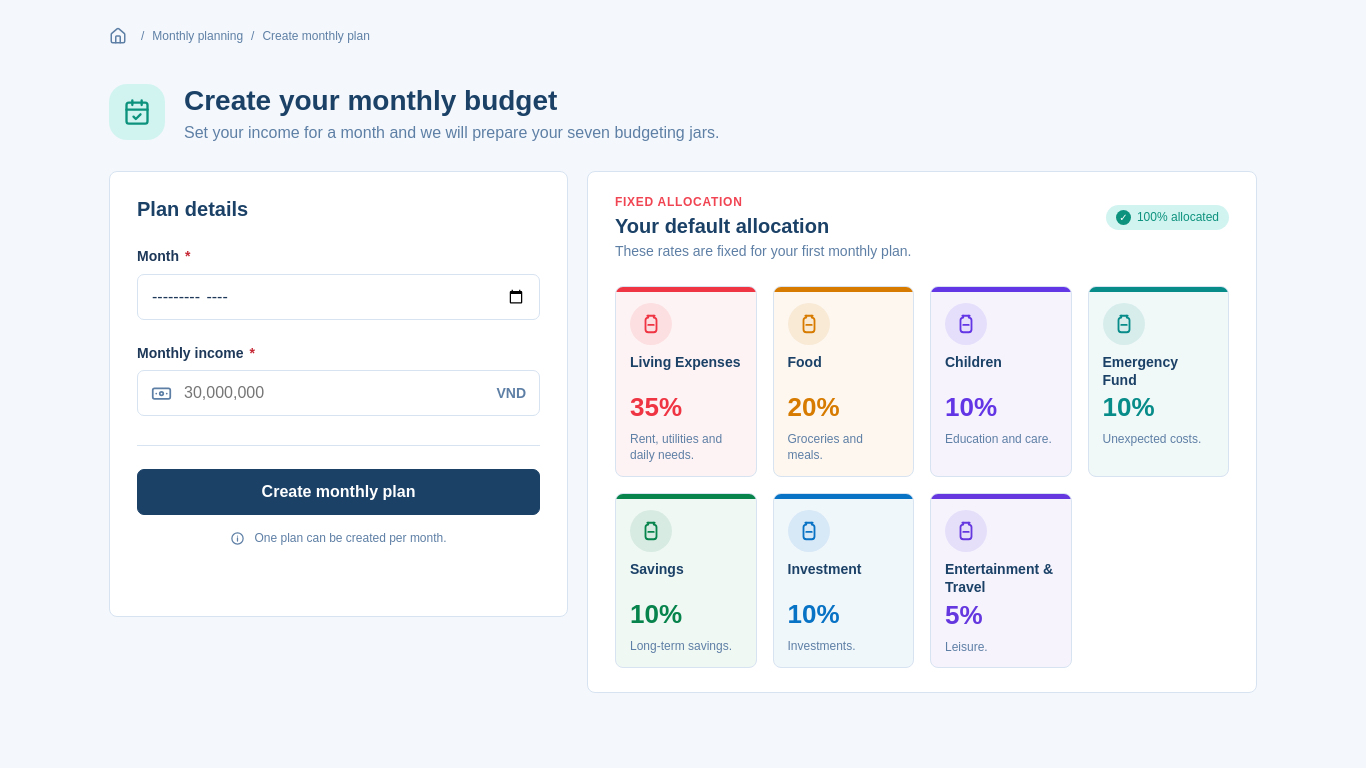
Test: MonthlyPlanningPageComponent › client validation (TC_F1_003, TC_F1_004, TC_F1_011, AC3) › rejects income 0 for a valid month, keeps the typed value and focuses Income
The image size is (1366, 768).
In the field labelled "Month *": [338, 297] box [151, 276, 526, 318], type "2026-09"
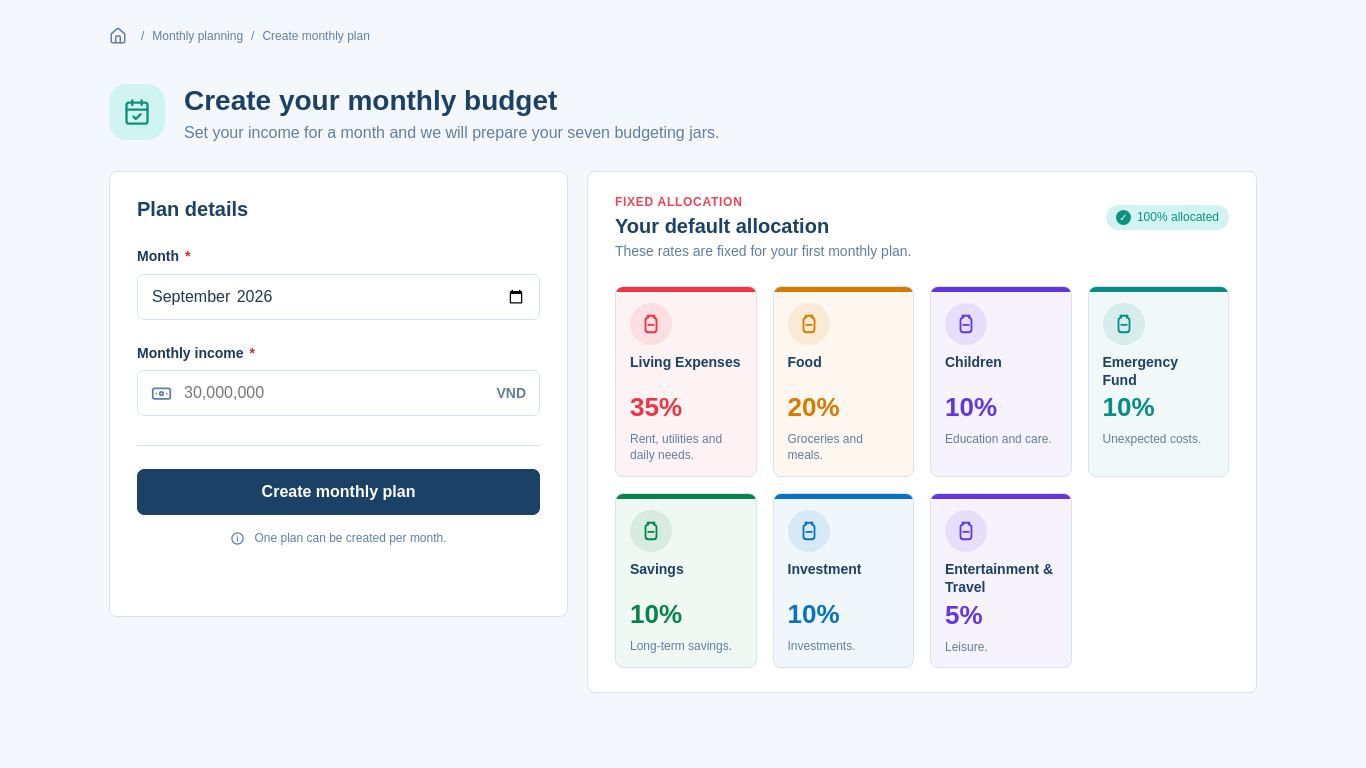
In the field with id "monthly-income": [334, 393] box [184, 372, 484, 414], type "0"
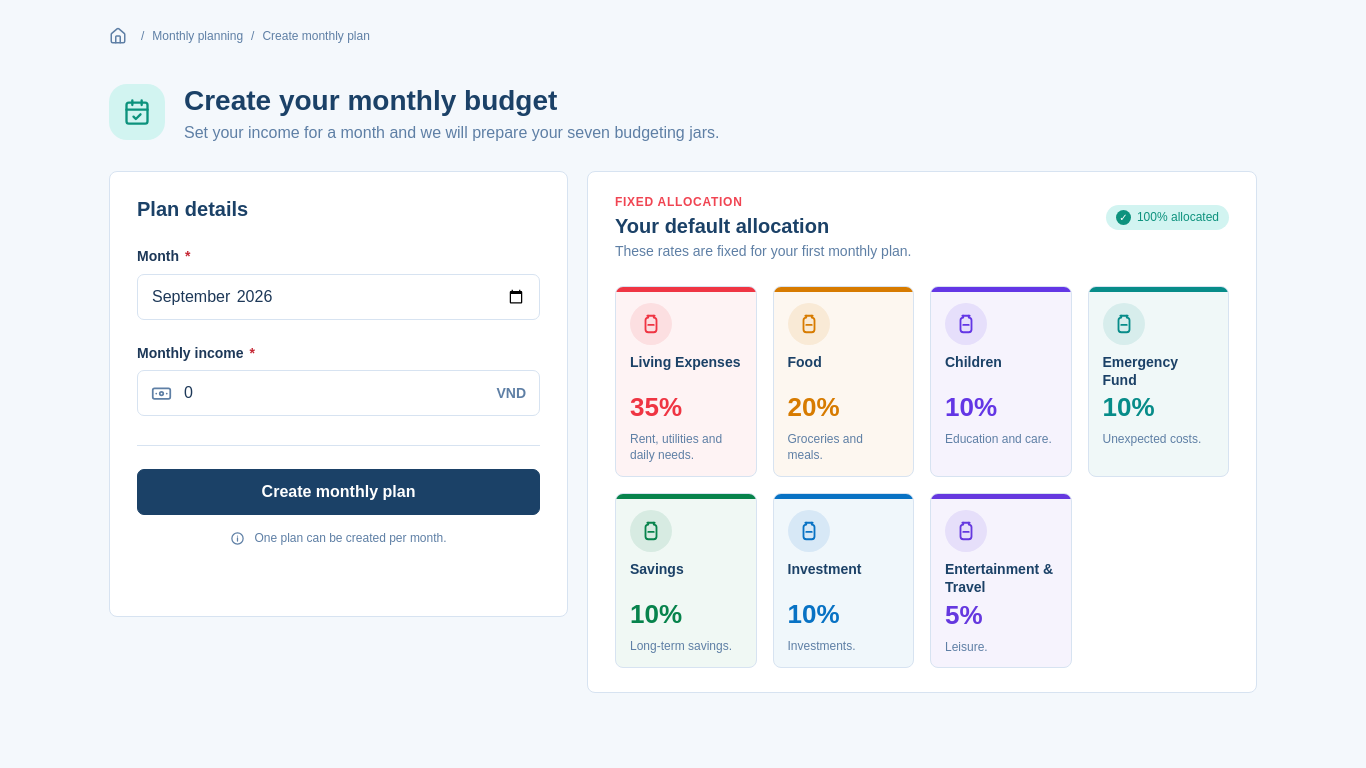
Click the button "Create monthly plan": [338, 492] box [137, 469, 540, 515]
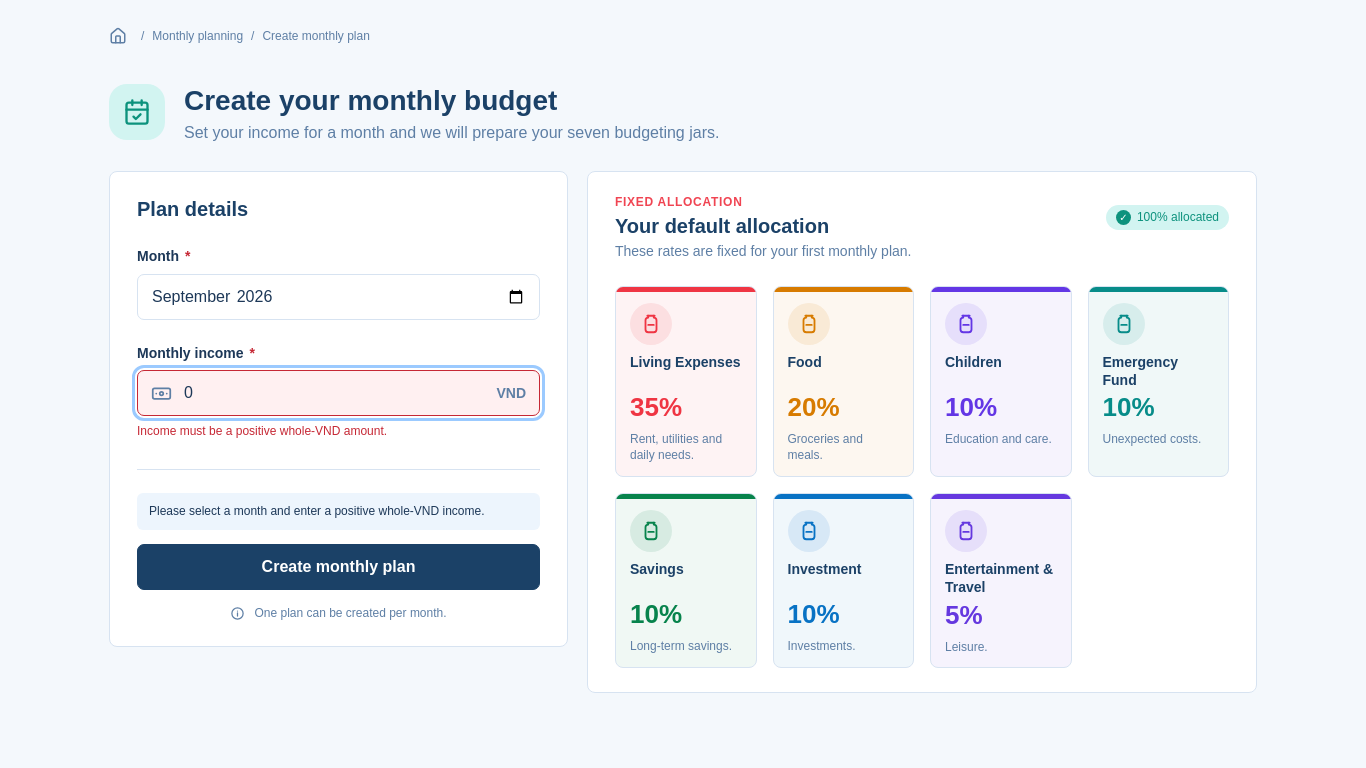
Expected: the message with id "income-error" reads "Income must be a positive whole-VND amount.", [137, 424, 387, 438]
Expected: the text "Please select a month and enter a positive whole-VND income." is shown, [137, 493, 540, 530]
